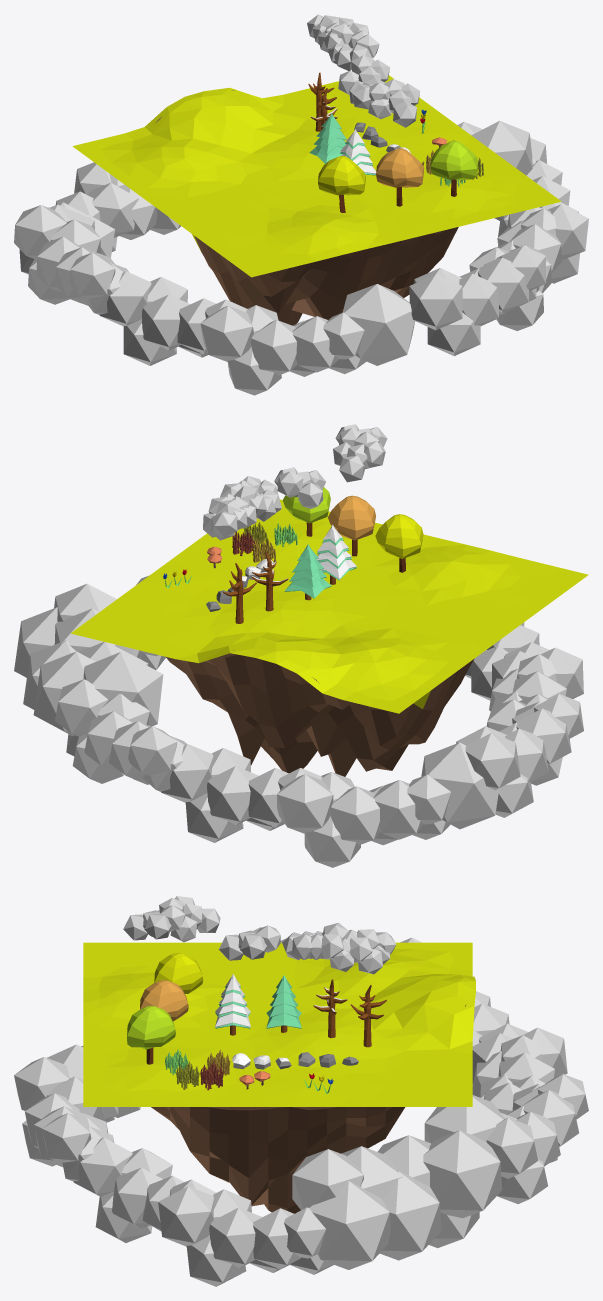
Rendered from low_poly_nature_pack by KASADIN on Turbosquid.fbx.
3 renders of one model, top to bottom at view 1: azimuth 30°, elevation 25°; view 2: azimuth 150°, elevation 25°; view 3: azimuth 270°, elevation 25°, orthographic. The views are drawn at different scales.
Visible parts, largest first — view 1: Landscape, Icosphere.039, cloud 3, cloud 1, normal tree dry, normal tree green, normal yellow ish, cloud 2, cone tree without snow, cone tree with snow; view 2: Landscape, Icosphere.039, cloud 3, cloud 1, normal yellow ish, normal tree dry, cloud 2, cone tree without snow, cone tree with snow, normal tree green, dead tree with snow, dead tree withotu snow; view 3: Landscape, Icosphere.039, cloud 3, cloud 1, normal tree green, cloud 2, normal yellow ish, cone tree with snow, normal tree dry, cone tree without snow, dead tree withotu snow, dead tree with snow.
Boxes of the visible parts, x1,y1,x2,y2 form: Landscape: [72, 75, 561, 325]; Icosphere.039: [14, 120, 588, 395]; cloud 3: [307, 14, 379, 70]; cloud 1: [349, 79, 419, 127]; normal tree dry: [376, 148, 423, 206]; normal tree green: [430, 140, 478, 196]; normal yellow ish: [318, 156, 365, 212]; cloud 2: [338, 55, 389, 94]; cone tree without snow: [309, 113, 346, 163]; cone tree with snow: [340, 129, 376, 175]; Landscape: [70, 499, 588, 776]; Icosphere.039: [14, 575, 583, 867]; cloud 3: [203, 476, 281, 540]; cloud 1: [333, 424, 387, 482]; normal yellow ish: [375, 514, 423, 572]; normal tree dry: [328, 495, 375, 556]; cloud 2: [274, 467, 325, 508]; cone tree without snow: [284, 544, 331, 600]; cone tree with snow: [316, 524, 356, 584]; normal tree green: [282, 487, 330, 536]; dead tree with snow: [251, 552, 288, 611]; dead tree withotu snow: [223, 563, 256, 623]; Landscape: [83, 942, 475, 1213]; Icosphere.039: [14, 937, 588, 1286]; cloud 3: [282, 923, 396, 974]; cloud 1: [123, 896, 220, 942]; normal tree green: [127, 1006, 175, 1064]; cloud 2: [219, 925, 280, 960]; normal yellow ish: [154, 953, 203, 993]; cone tree with snow: [215, 974, 250, 1035]; normal tree dry: [140, 980, 188, 1021]; cone tree without snow: [266, 975, 301, 1032]; dead tree withotu snow: [350, 985, 386, 1047]; dead tree with snow: [313, 979, 347, 1038].
Bounding box in the file's own units: 4171 × 2282 × 3814.
